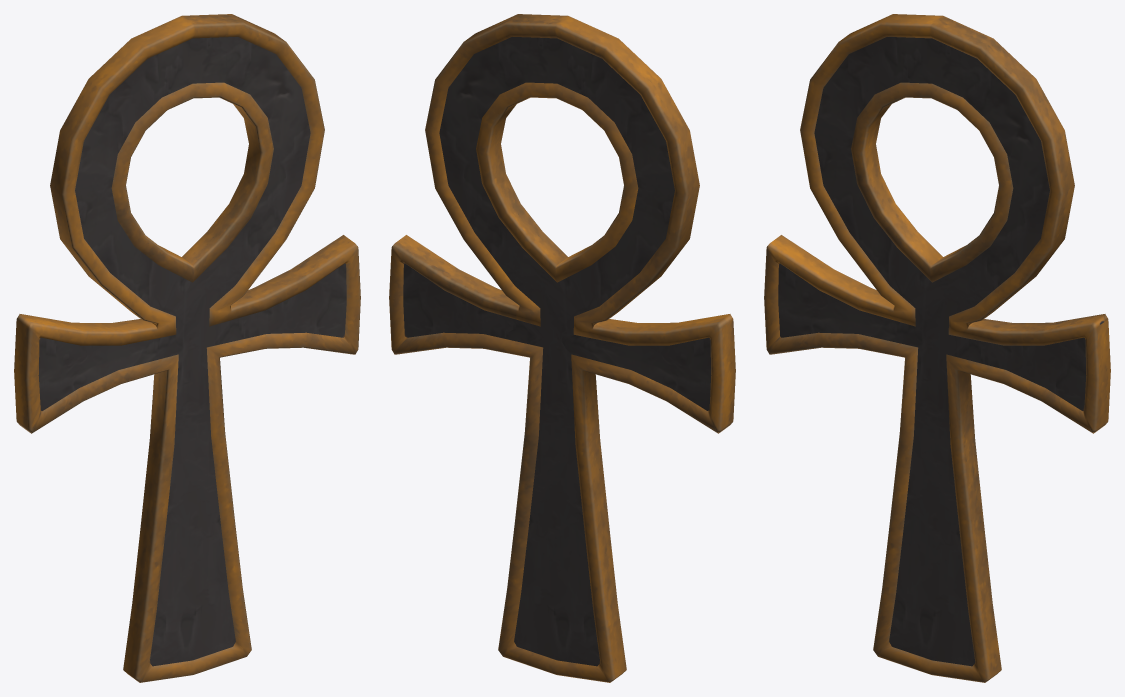
The model's file is Prop_Ankh.fbx.
The picture shows the model from 3 angles, left to right: view 1: azimuth 30°, elevation 25°; view 2: azimuth 150°, elevation 25°; view 3: azimuth 330°, elevation 25°; orthographic projection.
Parts seen in each view (by area): view 1: Ankh; view 2: Ankh; view 3: Ankh.
Part boxes in pixels (left/top/right/bottom): Ankh: left=14, top=14, right=360, bottom=682; Ankh: left=389, top=14, right=735, bottom=682; Ankh: left=764, top=14, right=1110, bottom=682.
Size of the model in its own units: 54.65 by 101 by 4.
Materials: 1 (1 with a texture image).
